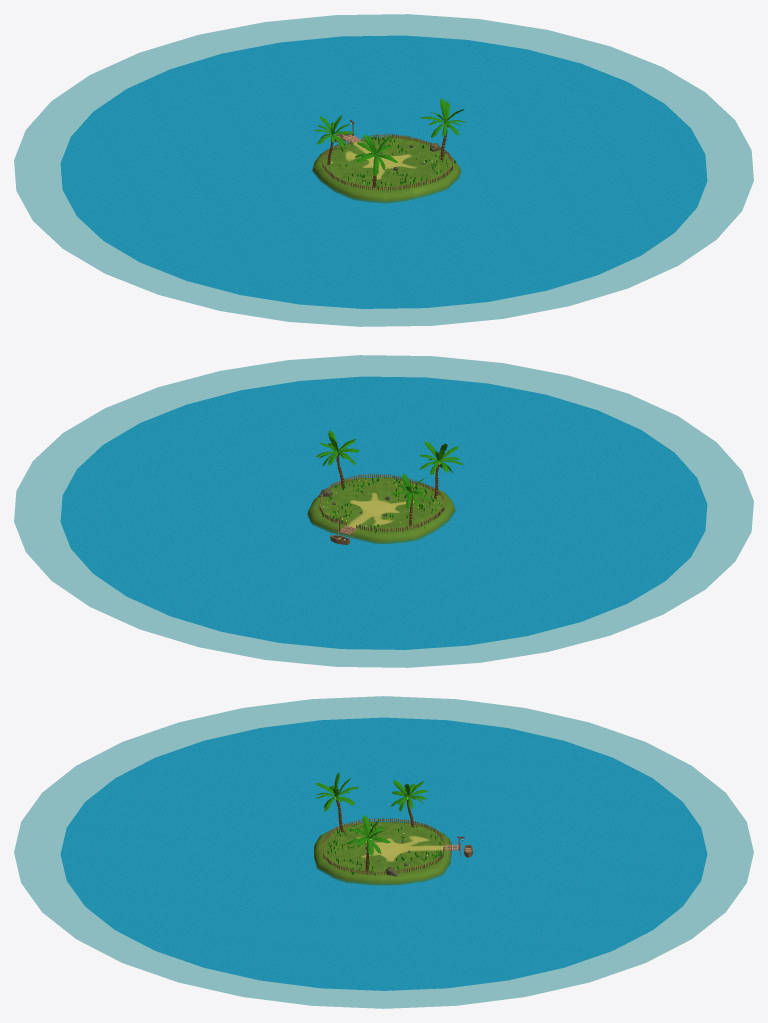
The model's file is island.glb.
The picture shows the model from 3 angles, top to bottom: view 1: azimuth 30°, elevation 25°; view 2: azimuth 150°, elevation 25°; view 3: azimuth 270°, elevation 25°; orthographic projection.
Parts seen in each view (by area): view 1: Circle.001, Circle, Island, Fences, palmTree2, palmTree3, palmTree1; view 2: Circle.001, Circle, Island, Fences, palmTree2, palmTree3; view 3: Circle.001, Circle, Island, Fences, palmTree3, palmTree2, palmTree1.
Boxes of the visible parts, x1,y1,x2,y2 form: Circle.001: (14,14,753,326); Circle: (60,35,707,308); Island: (312,136,461,203); Fences: (322,133,452,190); palmTree2: (355,134,397,187); palmTree3: (420,98,466,159); palmTree1: (314,115,354,164); Circle.001: (14,355,753,667); Circle: (60,376,707,649); Island: (307,477,455,543); Fences: (319,473,444,532); palmTree2: (419,441,463,498); palmTree3: (315,430,359,487); Circle.001: (14,696,753,1008); Circle: (60,717,707,990); Island: (314,822,450,885); Fences: (323,817,444,875); palmTree3: (346,815,390,871); palmTree2: (315,772,358,832); palmTree1: (390,780,427,827).
Size of the model in its own units: 203 by 22.58 by 203.
Materials: 24 (3 with a texture image).
